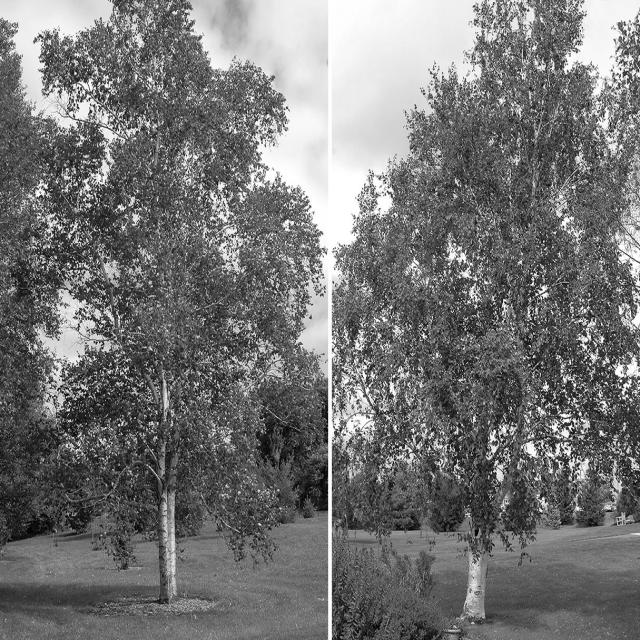Betula papyrifera: (332, 11, 640, 616), (34, 0, 326, 571)
